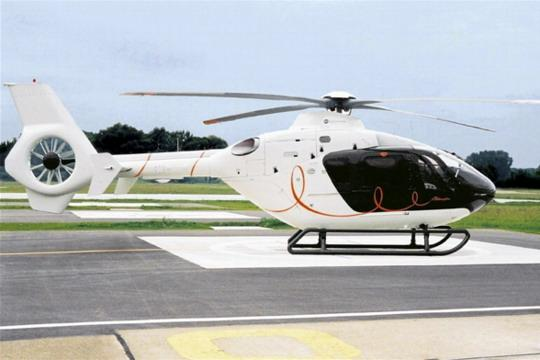airplane: (4, 75, 529, 276)
